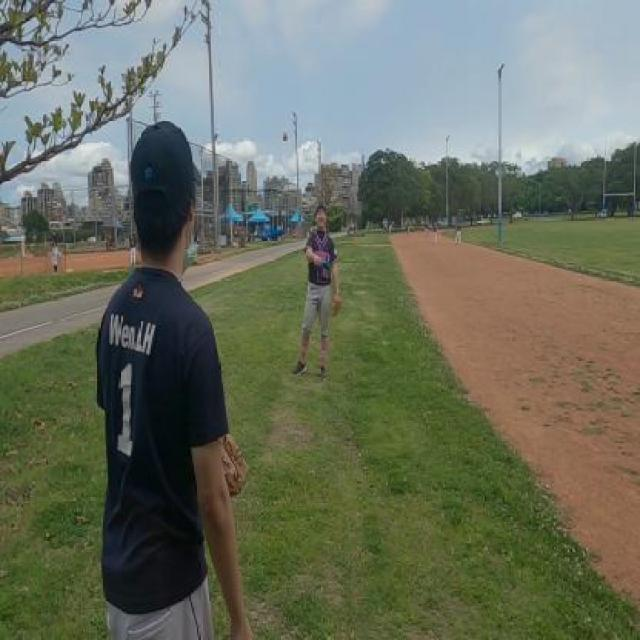baseball: (282, 130, 288, 141)
